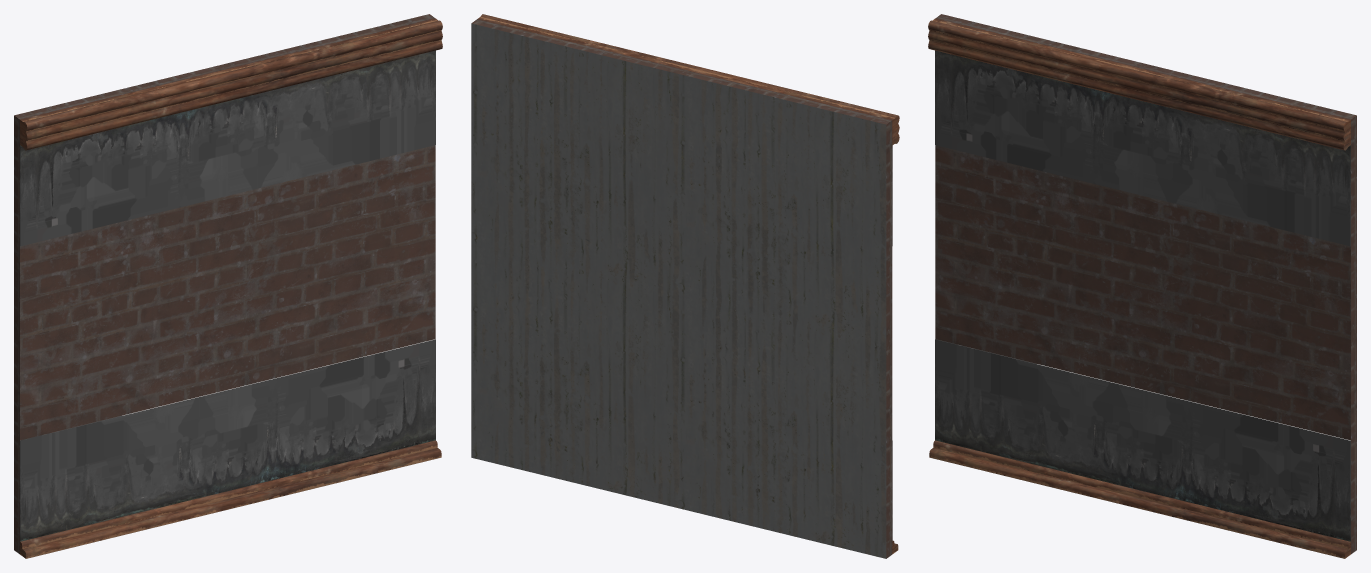
Rendered from Kit_BricksRoofAsbestos.fbx.
3 views of the same model, side by side, from view 1: azimuth 30°, elevation 25°; view 2: azimuth 150°, elevation 25°; view 3: azimuth 330°, elevation 25° (orthographic).
Parts seen in each view (by area): view 1: Kit_BricksRoofAsbestos; view 2: Kit_BricksRoofAsbestos; view 3: Kit_BricksRoofAsbestos.
Boxes of the visible parts, left/top/right/bottom form: Kit_BricksRoofAsbestos: left=14, top=14, right=442, bottom=558; Kit_BricksRoofAsbestos: left=471, top=14, right=899, bottom=558; Kit_BricksRoofAsbestos: left=928, top=14, right=1356, bottom=558.
Size of the model in its own units: 157 by 158 by 8.75.
